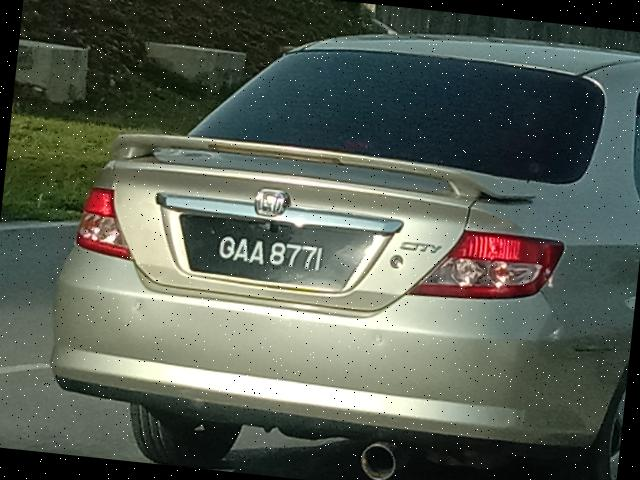License_Plate: (175, 212, 374, 296)
car: (30, 1, 640, 480)
